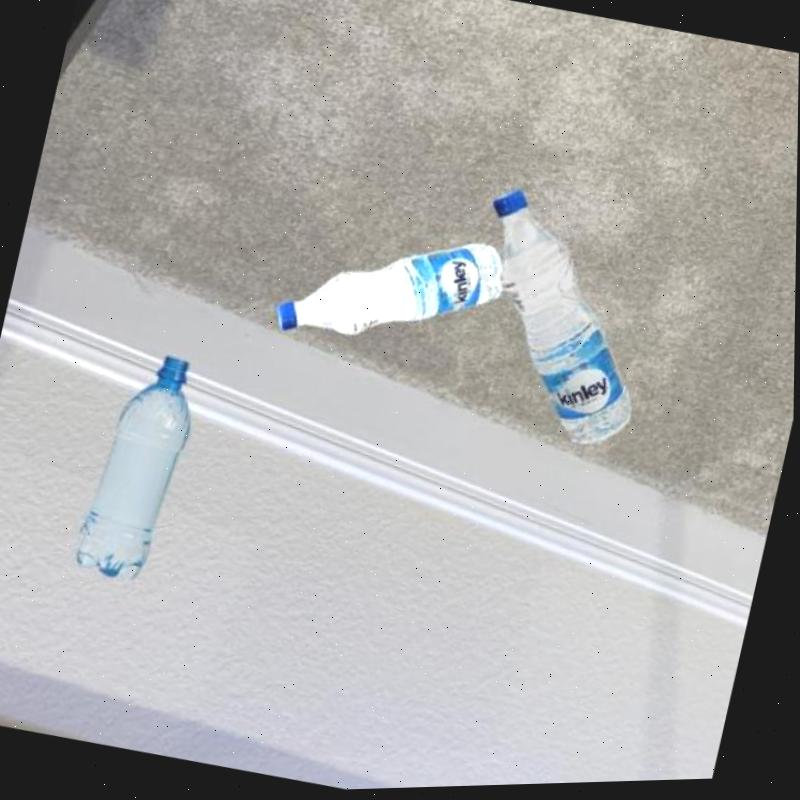botella: (443, 185, 676, 459), (272, 207, 512, 374), (71, 344, 206, 589)
